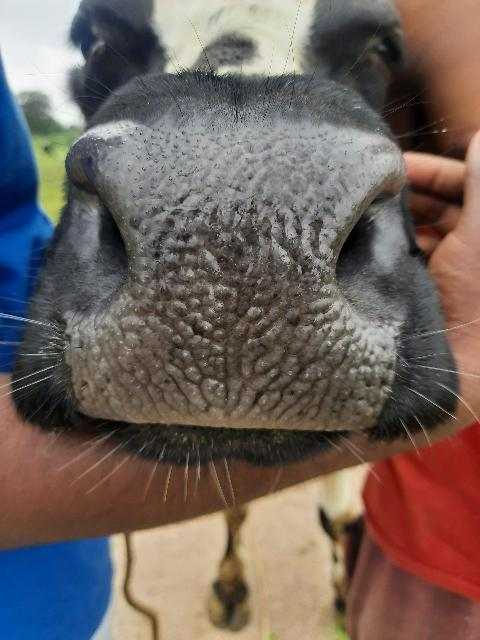Muzzle: (86, 136, 373, 436)
